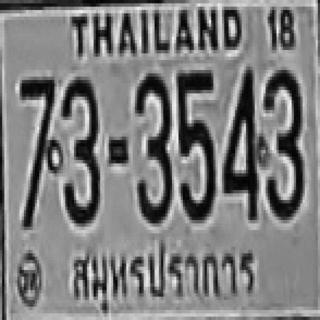N03: (261, 67, 303, 217), (59, 77, 98, 223), (135, 72, 170, 222)
N04: (222, 65, 257, 218)
N05: (176, 67, 213, 220)
N07: (18, 75, 56, 225)
P57: (68, 237, 260, 306)
